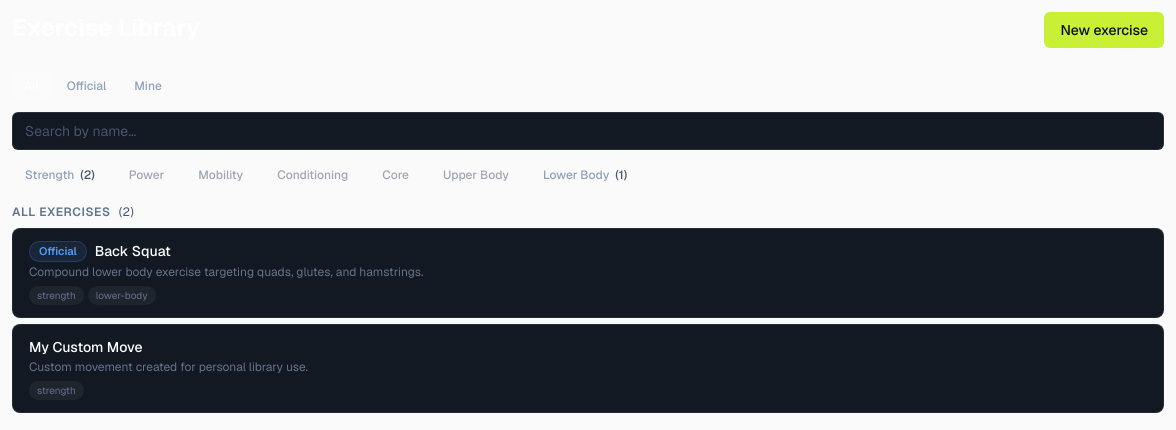
Scenario: ExercisesPage — scope selector › clicking "Official" shows only COMPANY exercises
Check: the text "Back Squat" is shown, box [95,241,171,261]
Step 1. Click the button "Official" → coordinates (87, 86), box [55,72,118,100]
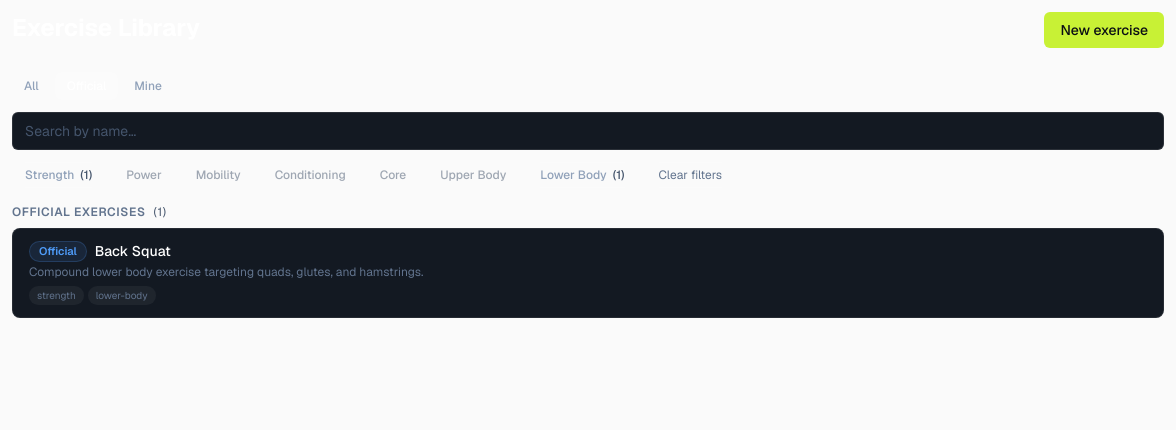
Check: the text "Back Squat" is shown, box [95,241,171,261]
Check: the text "My Custom Move" is gone
